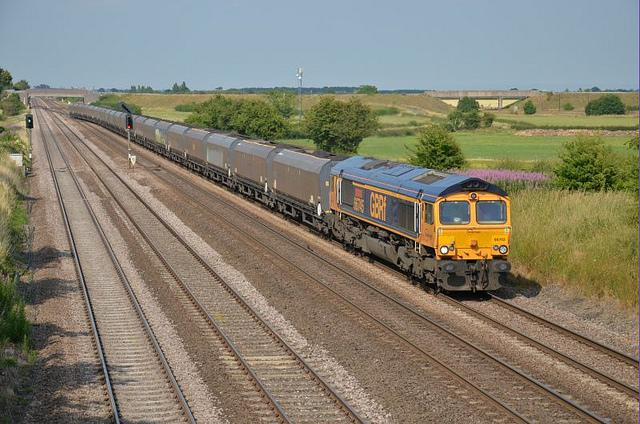Train: (70, 105, 511, 292)
